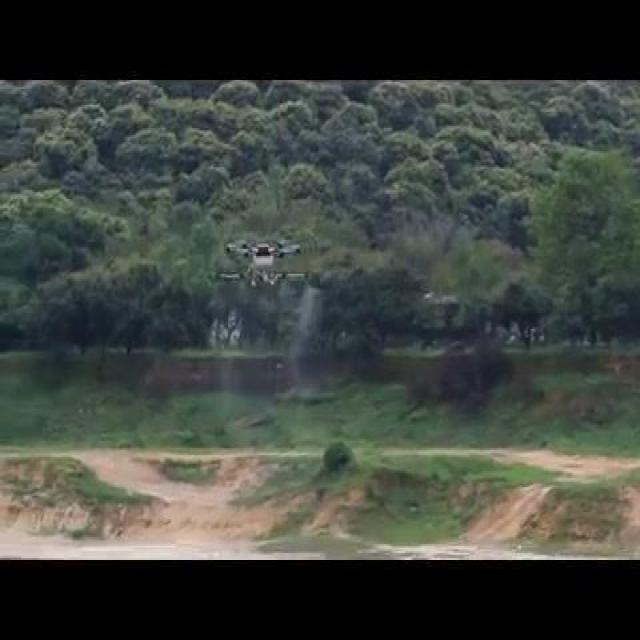drone: (215, 238, 310, 292)
